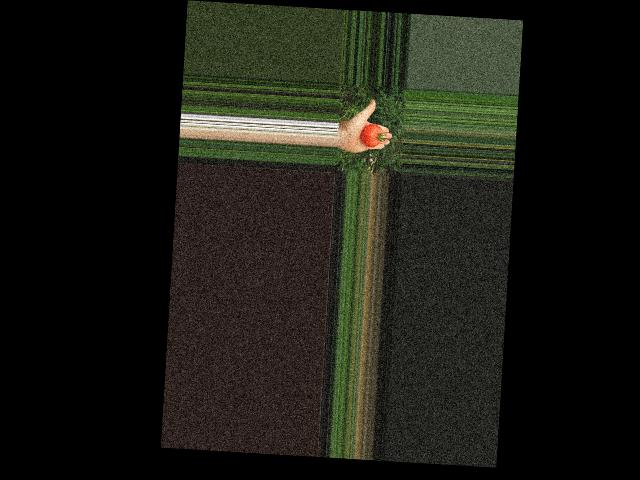tomato: (360, 123, 382, 148)
